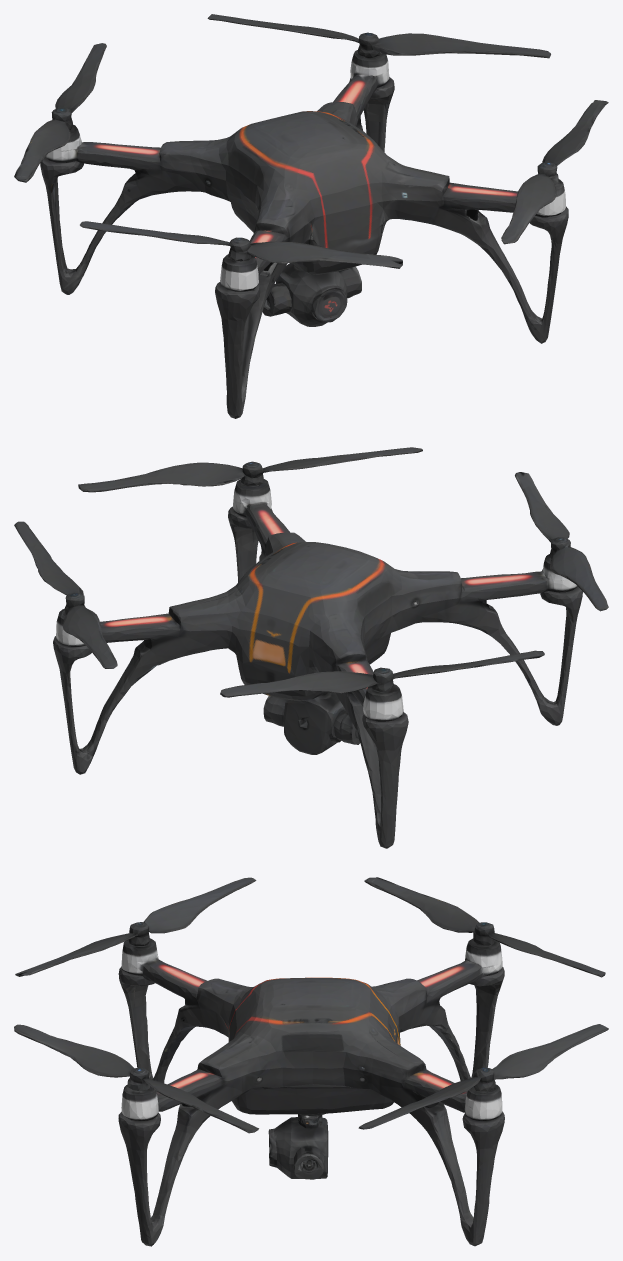
The model's file is Drone_fbx 1.fbx.
3 views of the same model, one above another, from view 1: azimuth 30°, elevation 25°; view 2: azimuth 150°, elevation 25°; view 3: azimuth 270°, elevation 25° (orthographic). The views are drawn at different scales.
Visible parts, largest first — view 1: temp; view 2: temp; view 3: temp.
Part boxes in pixels (<box>): temp: <box>14,14,608,418</box>; temp: <box>14,447,608,848</box>; temp: <box>14,877,608,1246</box>.
Size of the model in its own units: 200 by 68.41 by 200.
1 material, 1 textured.
